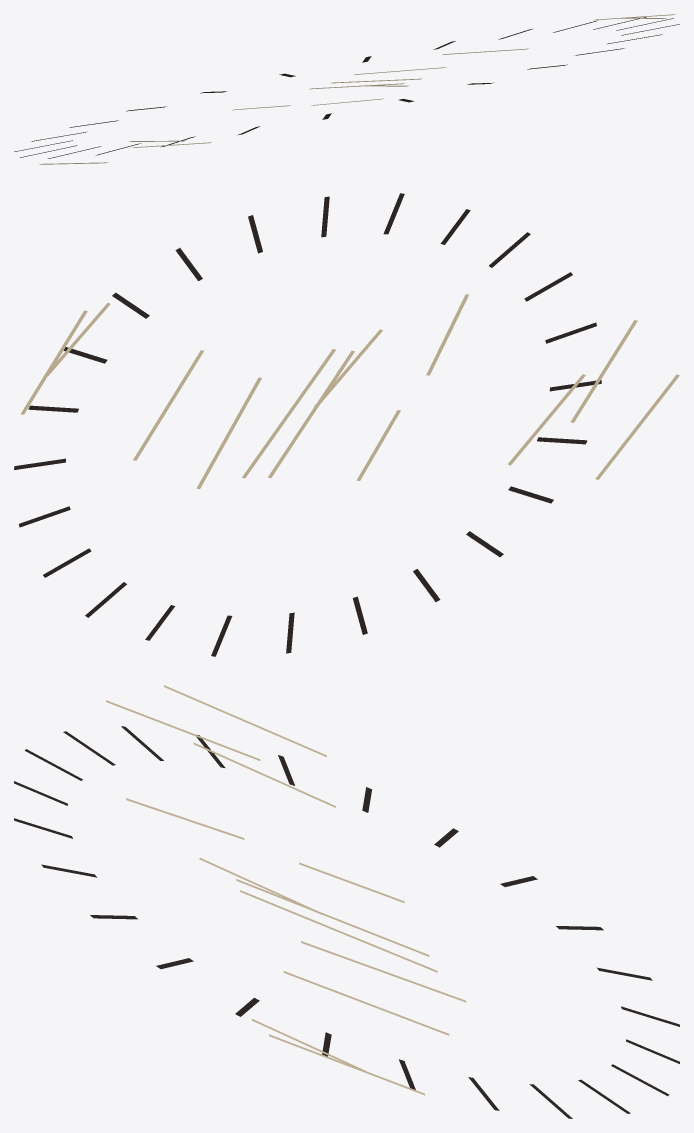
The model's file is dam_eye_mouth_detail1.glb.
3 views of the same model, one above another, from view 1: azimuth 30°, elevation 25°; view 2: azimuth 150°, elevation 25°; view 3: azimuth 270°, elevation 25° (orthographic). The views are drawn at different scales.
Parts seen in each view (by area): view 1: dam_eye_mouth_detail1; view 2: dam_eye_mouth_detail1; view 3: dam_eye_mouth_detail1.
Boxes of the visible parts, box(x1,y1,x2,y2) form: dam_eye_mouth_detail1: box(14, 14, 679, 164); dam_eye_mouth_detail1: box(14, 193, 679, 656); dam_eye_mouth_detail1: box(14, 685, 679, 1118).
Bounding box in the file's own units: 22.01 × 8.69 × 20.
